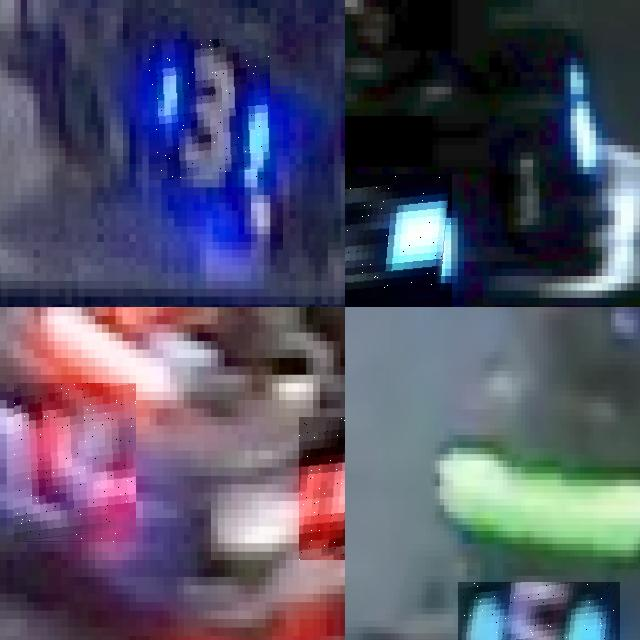B3: (149, 39, 270, 180)
B5: (457, 582, 620, 640)
Bs: (345, 174, 451, 307)
R4: (14, 384, 136, 544), (299, 417, 345, 560)
